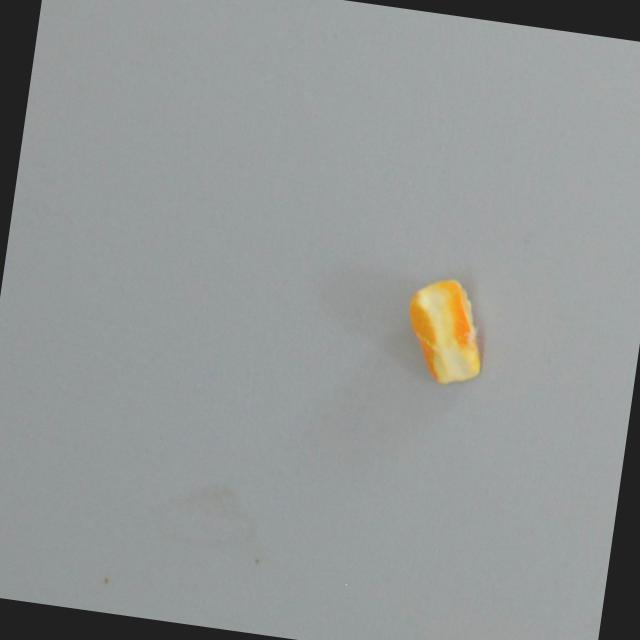pelicula: (396, 270, 494, 390)
